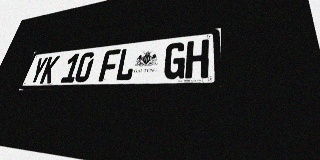0: (74, 52, 96, 82)
1: (60, 53, 82, 83)
F: (98, 49, 121, 82)
G: (163, 42, 187, 79)
H: (185, 39, 209, 79)
K: (39, 56, 60, 84)
L: (114, 47, 137, 81)
Y: (28, 57, 49, 84)
